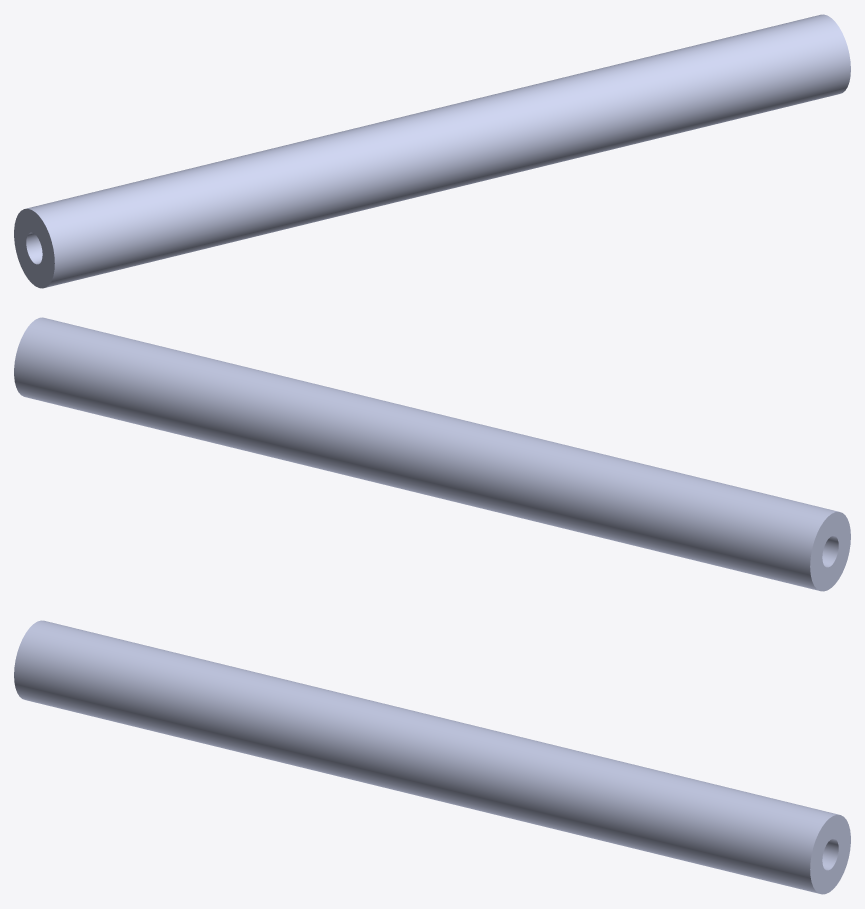
Rendered from rear_output_shaft.glb.
3 views of the same model, one above another, from view 1: azimuth 30°, elevation 25°; view 2: azimuth 150°, elevation 25°; view 3: azimuth 330°, elevation 25° (orthographic).
Parts seen in each view (by area): view 1: rear_output_shaft; view 2: rear_output_shaft; view 3: rear_output_shaft.
Boxes of the visible parts, bbox=[...] form: rear_output_shaft: bbox=[14, 14, 850, 288]; rear_output_shaft: bbox=[14, 317, 850, 591]; rear_output_shaft: bbox=[14, 620, 850, 894].
Size of the model in its own units: 0.3375 by 0.03 by 0.03.
